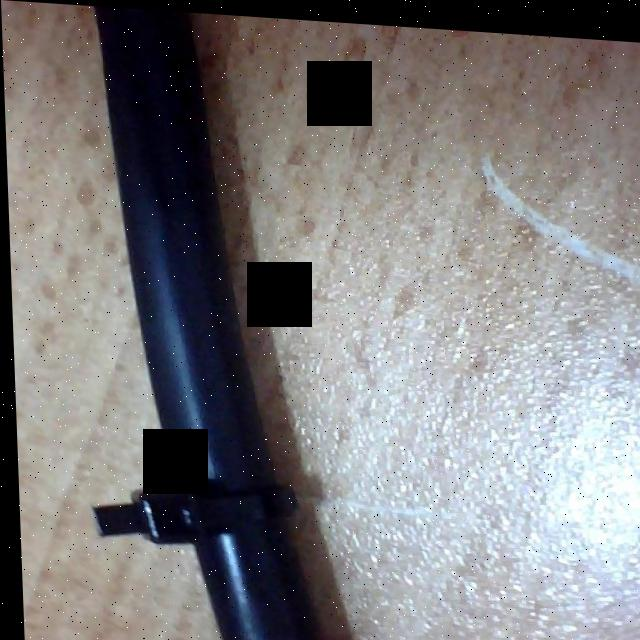cable-tie: (89, 481, 291, 542)
